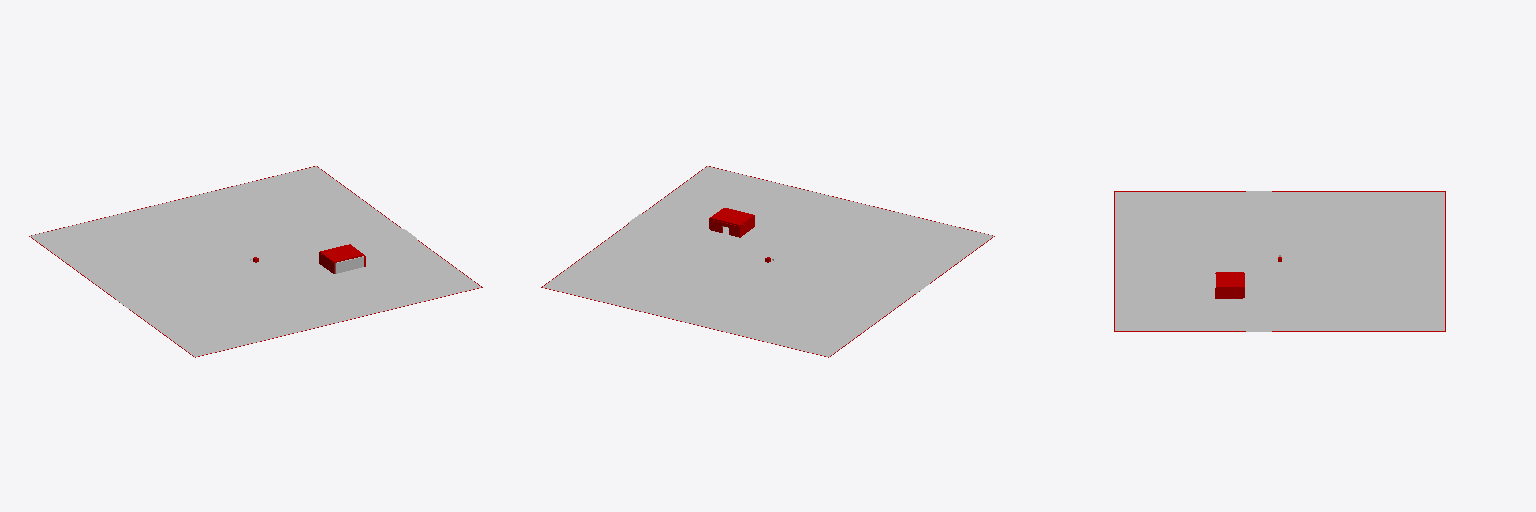
The model's file is new_map.obj.
3 views of the same model, side by side, from view 1: azimuth 30°, elevation 25°; view 2: azimuth 150°, elevation 25°; view 3: azimuth 270°, elevation 25° (orthographic).
Visible parts, largest first — view 1: map; view 2: map; view 3: map.
Part boxes in pixels (left/top/right/bottom): map: left=29, top=166, right=482, bottom=357; map: left=541, top=166, right=994, bottom=357; map: left=1114, top=191, right=1445, bottom=331.
Bounding box in the file's own units: 366 × 15.63 × 365.